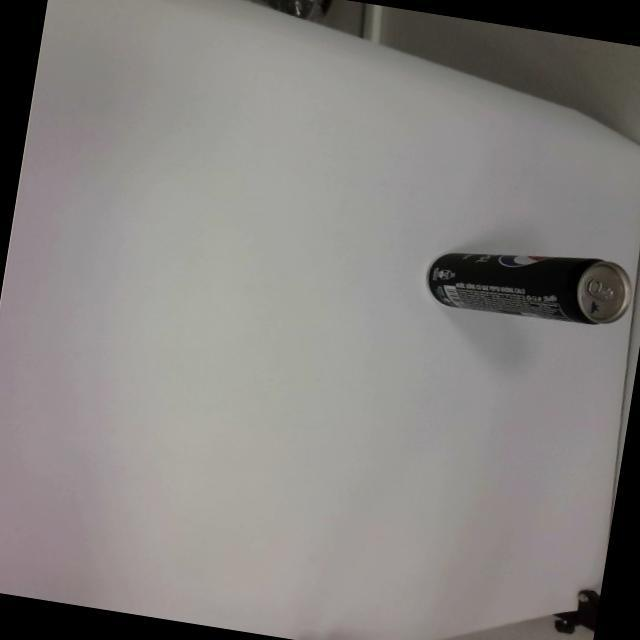debris: (423, 232, 638, 335)
